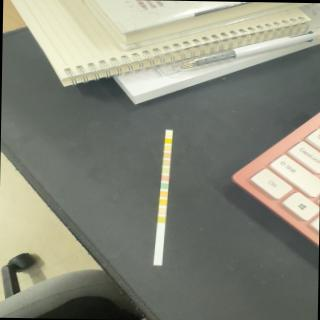mark: (157, 215, 165, 222), (163, 144, 171, 150), (162, 152, 170, 158), (162, 167, 170, 173), (161, 174, 169, 180), (160, 182, 168, 188), (160, 191, 168, 197), (159, 199, 167, 205), (158, 208, 166, 214), (164, 138, 172, 142), (162, 160, 170, 164), (165, 132, 172, 136)
